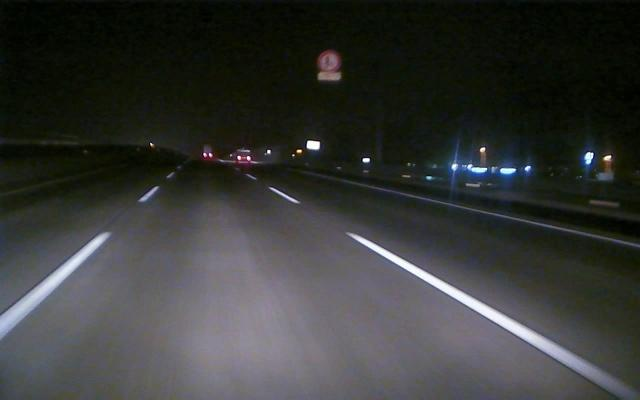lane: (273, 189, 635, 395), (2, 187, 158, 338), (384, 189, 640, 249)
